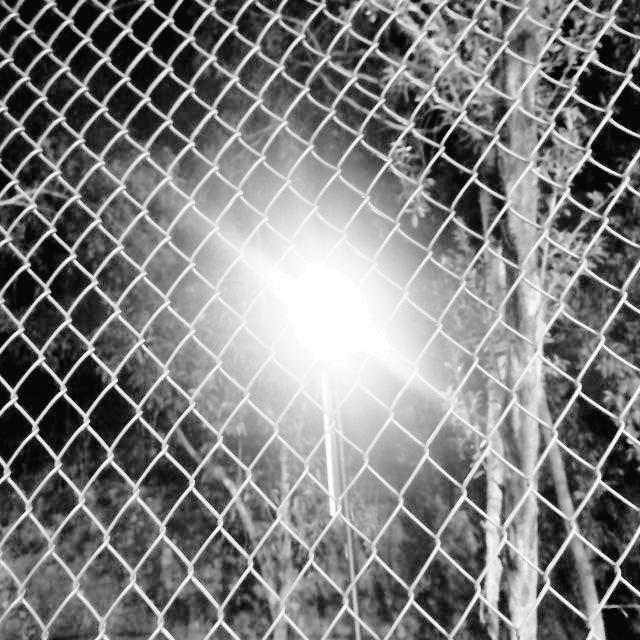Light: (290, 267, 368, 640)
Tree: (451, 0, 554, 638)
